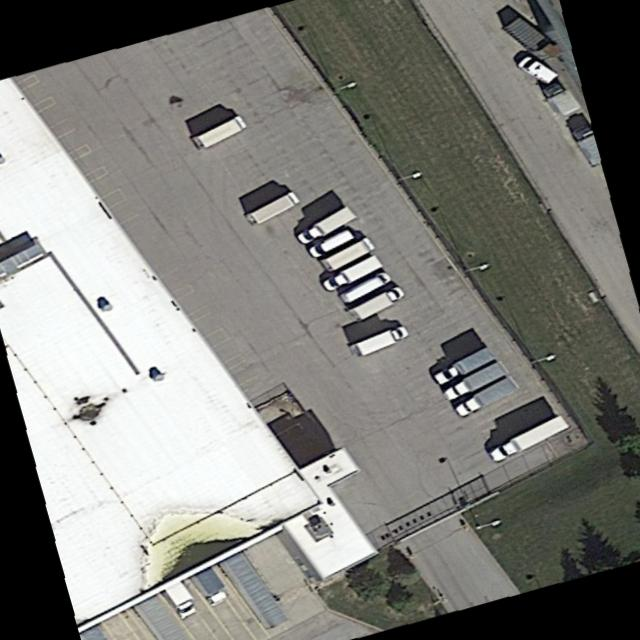large-vehicle: (489, 414, 570, 464), (180, 551, 232, 608), (455, 375, 520, 418), (444, 360, 509, 402), (434, 346, 498, 386), (296, 206, 357, 246), (323, 254, 384, 293), (246, 191, 301, 227), (322, 236, 377, 272), (351, 285, 406, 321), (193, 114, 248, 150), (353, 324, 410, 358), (161, 573, 200, 618), (540, 80, 579, 117), (77, 618, 105, 640)
small-vehicle: (337, 269, 394, 305), (513, 52, 562, 87), (307, 228, 357, 259)
